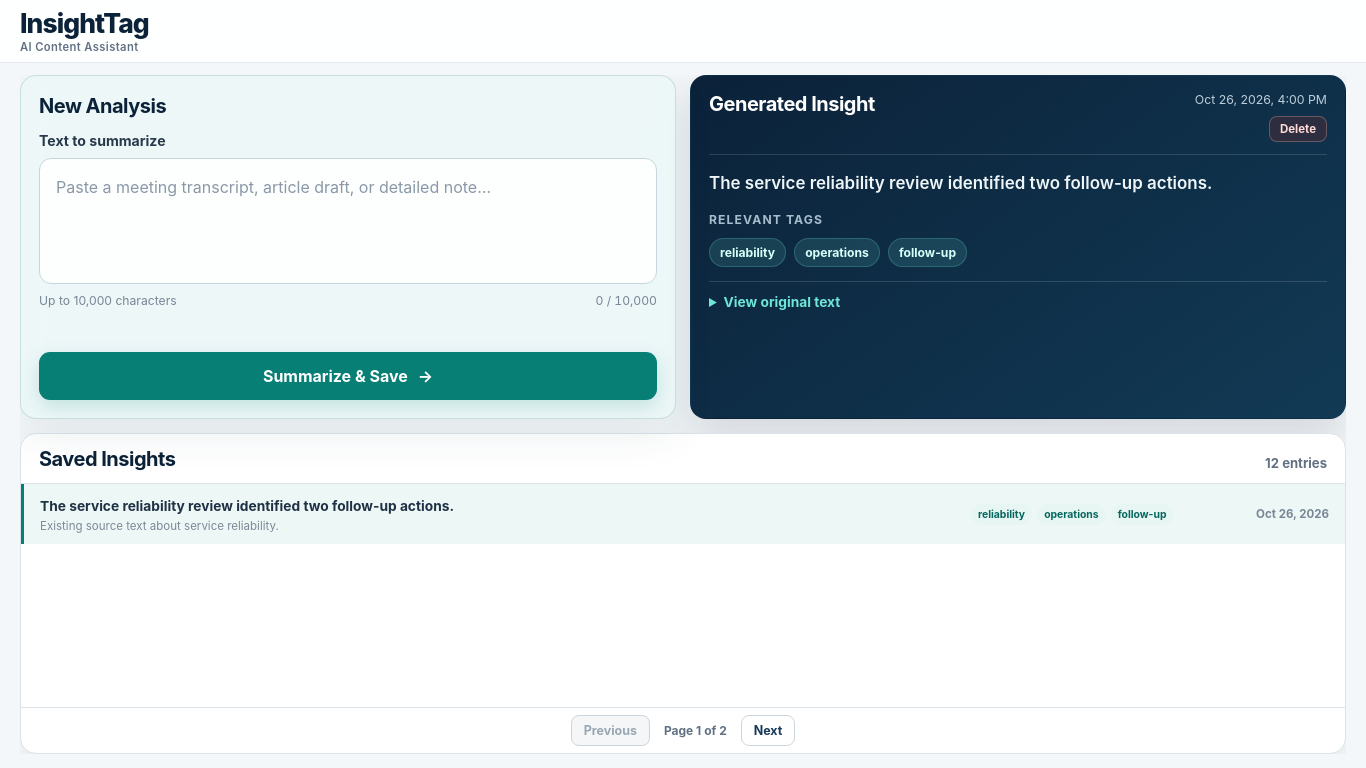
InsightTag smoke flow › returns to page one and shows a newly created entry
Expected: the text "Page 1 of 2" is shown, [664,723,727,738]
Click the button "Next" at (768, 730), box [741,715,795,746]
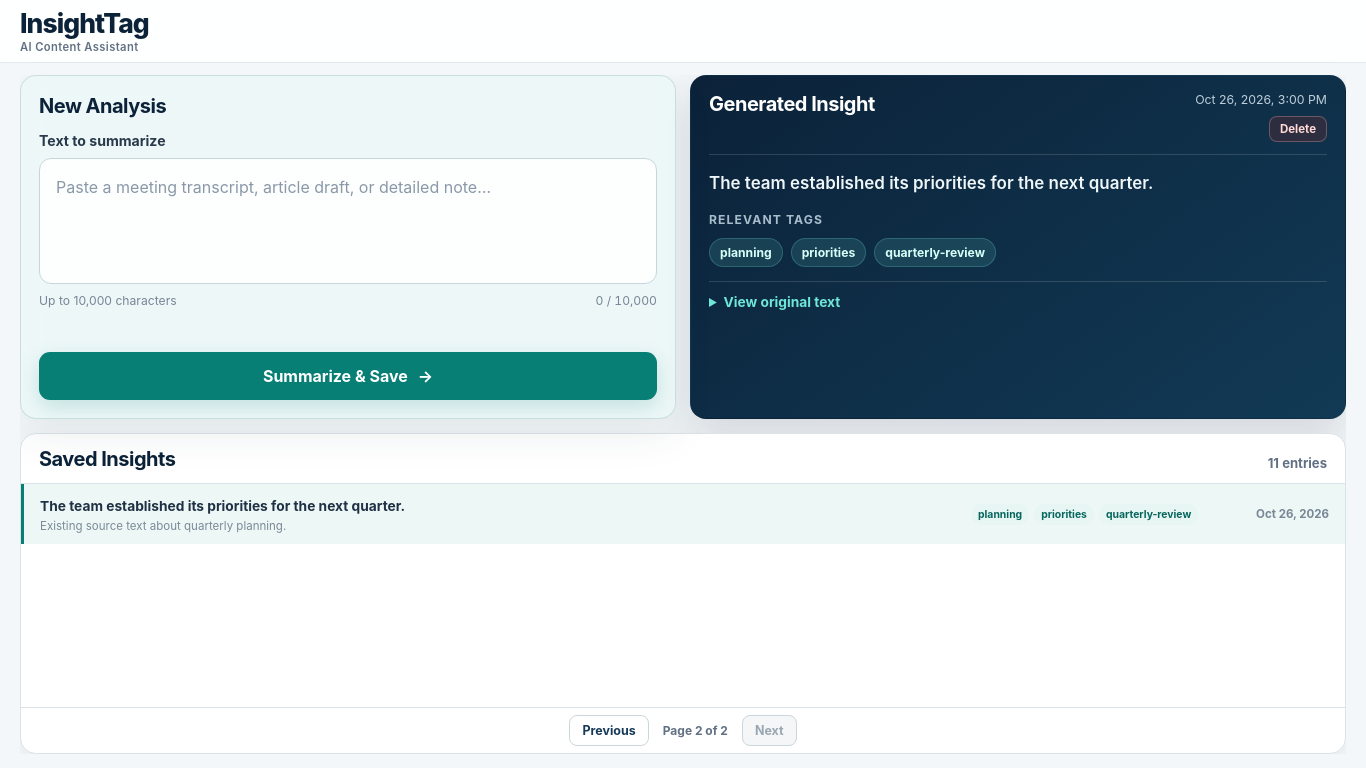
Expected: the text "Page 2 of 2" is shown, [663,723,728,738]
Type "A customer onboarding workflow update." into the text box labelled "Text to summarize" at (348, 221), box [39,158,657,284]
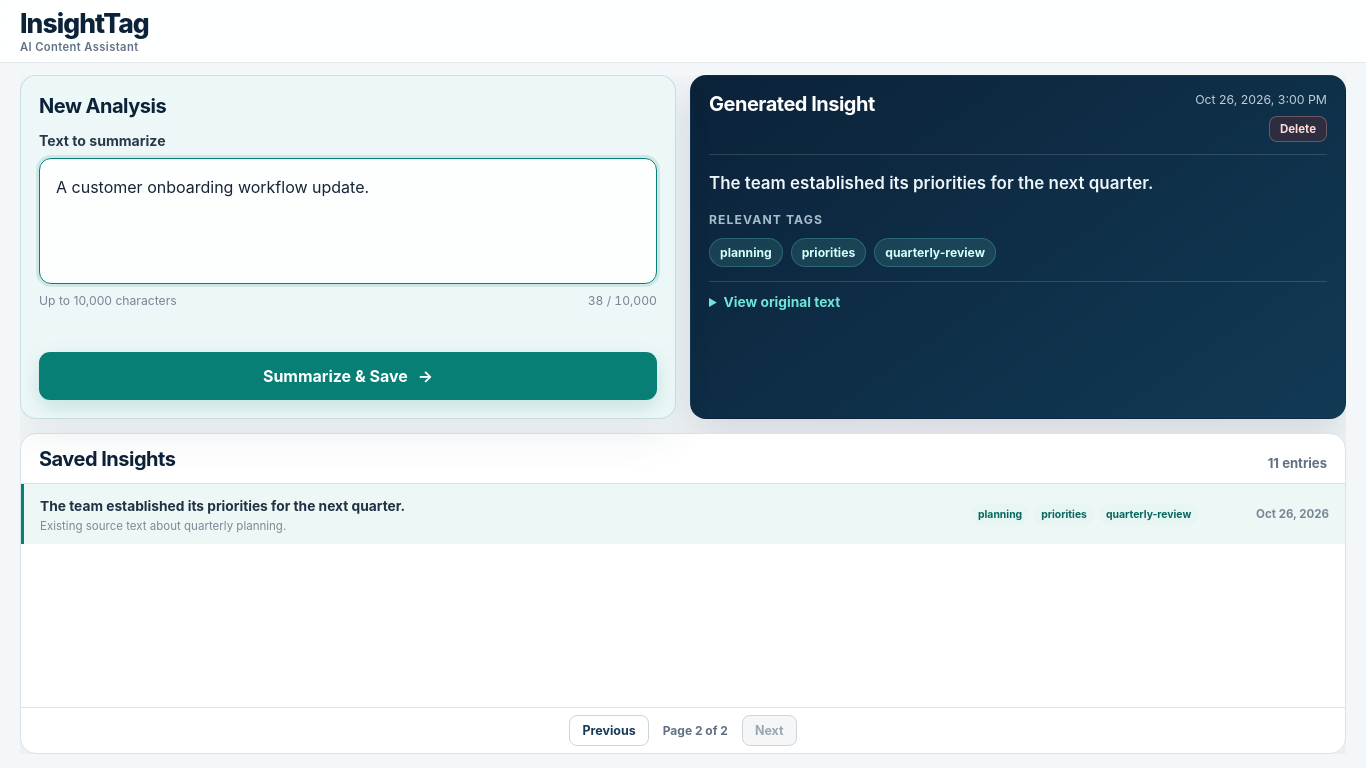
Click the button "Summarize & Save →" at (348, 376), box [39,352,657,400]
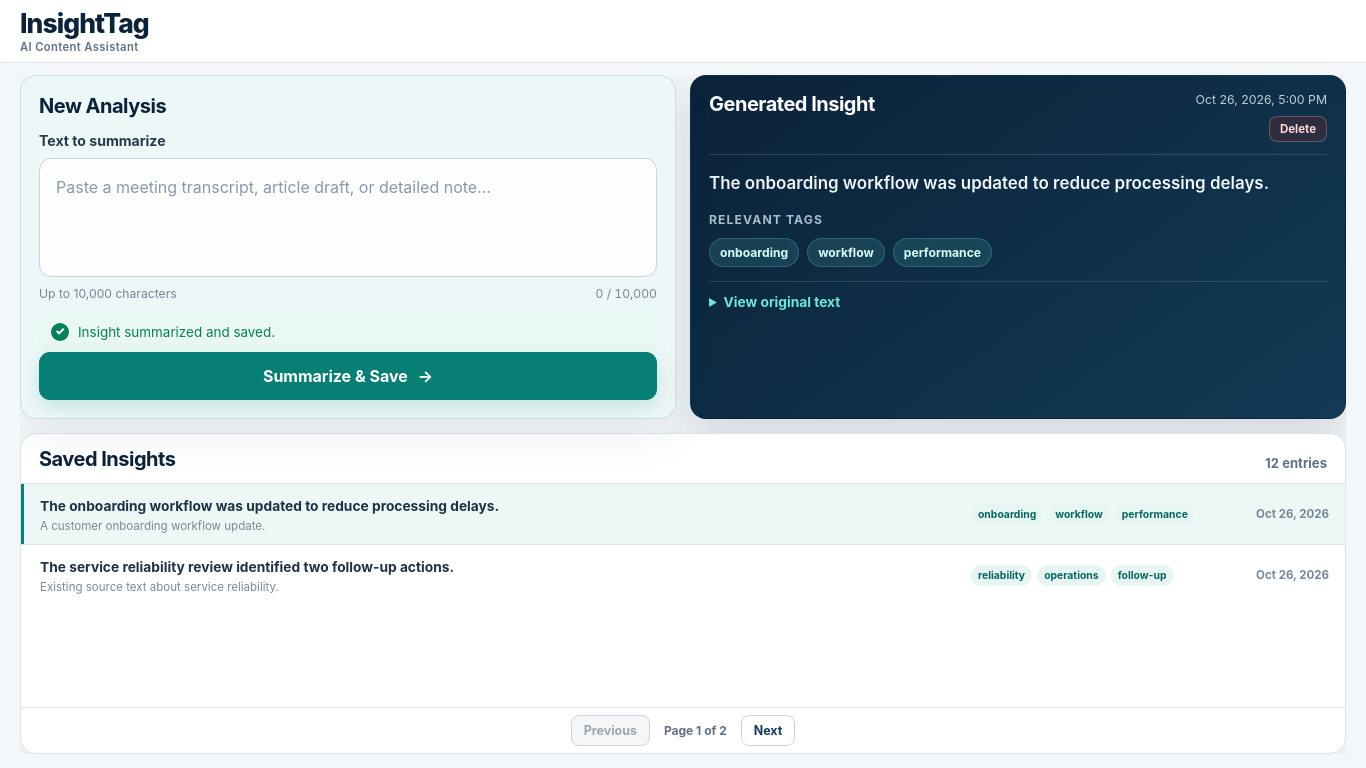
Expected: the text "Page 1 of 2" is shown, [664,723,727,738]
Expected: the button "The onboarding workflow was updated to reduce processing delays." is shown, [21,484,1345,544]
Expected: the text "The onboarding workflow was updated to reduce processing delays." below "Generated Insight" is shown, [709,172,1269,192]
